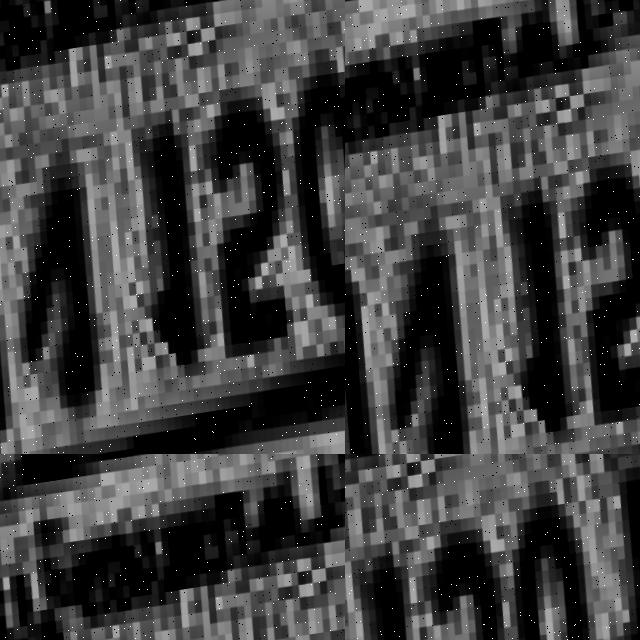license-plate: (0, 0, 345, 454), (345, 0, 640, 454), (0, 454, 345, 640), (345, 454, 640, 640)
